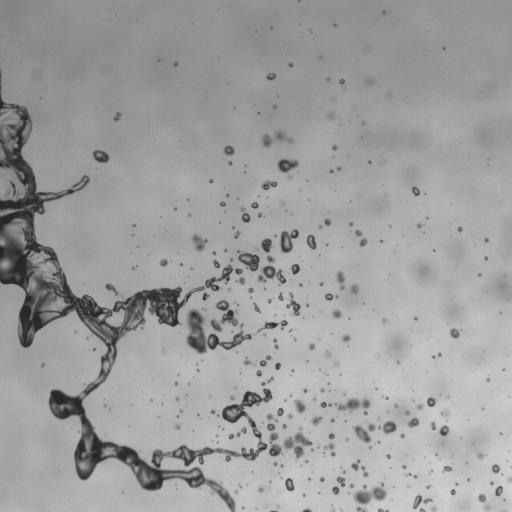droplet: (277, 229, 298, 253), (277, 158, 299, 180), (412, 494, 433, 510), (191, 233, 208, 252), (293, 399, 307, 415), (92, 150, 109, 163), (261, 179, 277, 190), (406, 416, 419, 428), (306, 234, 316, 249), (449, 328, 462, 339), (426, 394, 437, 407), (310, 415, 323, 426), (284, 477, 294, 491), (438, 424, 449, 436), (243, 356, 256, 366), (440, 408, 450, 421), (19, 147, 30, 158), (272, 169, 283, 180), (269, 243, 280, 254), (479, 243, 490, 254), (285, 251, 296, 262), (151, 279, 162, 290), (8, 282, 19, 293), (328, 282, 339, 293), (71, 286, 82, 297), (14, 287, 25, 298), (122, 287, 133, 298), (208, 290, 219, 301), (96, 296, 107, 307), (102, 297, 113, 308), (327, 299, 338, 310), (176, 308, 187, 319), (282, 308, 293, 319), (201, 311, 212, 322), (145, 312, 156, 323), (286, 314, 297, 325), (9, 316, 20, 327), (178, 322, 189, 333), (33, 329, 44, 340), (250, 351, 261, 362), (321, 358, 332, 369), (263, 363, 274, 374), (87, 370, 98, 381), (65, 386, 76, 397), (266, 399, 277, 410), (284, 402, 295, 413), (310, 404, 321, 415), (426, 406, 437, 417), (303, 407, 314, 418), (321, 407, 332, 418), (366, 412, 377, 423), (68, 413, 79, 424), (418, 418, 429, 429), (318, 420, 329, 431), (395, 421, 406, 432), (285, 426, 296, 437), (350, 435, 361, 446), (247, 437, 258, 448), (220, 438, 231, 449), (189, 440, 200, 451), (229, 440, 240, 451), (162, 441, 173, 452), (374, 445, 385, 456), (282, 447, 293, 458), (119, 462, 130, 473), (416, 465, 427, 476), (345, 469, 356, 480), (417, 473, 428, 484), (492, 473, 503, 484), (483, 486, 494, 497), (368, 498, 379, 509), (159, 258, 172, 267), (223, 145, 234, 155), (290, 264, 300, 275), (331, 309, 342, 319), (476, 451, 487, 460), (494, 485, 503, 496), (502, 483, 511, 494), (411, 186, 420, 196), (212, 259, 221, 269), (326, 111, 335, 120), (491, 464, 500, 473), (253, 135, 262, 144), (270, 139, 279, 148), (284, 151, 293, 160), (248, 208, 257, 217), (271, 237, 280, 246), (186, 241, 195, 250), (257, 249, 266, 258), (258, 257, 267, 266), (231, 259, 240, 268), (241, 267, 250, 276), (213, 268, 222, 277), (282, 268, 291, 277), (343, 278, 352, 287), (253, 281, 262, 290), (279, 283, 288, 292), (68, 309, 77, 318), (215, 309, 224, 318), (98, 344, 107, 353), (265, 345, 274, 354), (247, 364, 256, 373), (308, 385, 317, 394), (173, 386, 182, 395), (347, 390, 356, 399), (300, 394, 309, 403), (233, 395, 242, 404), (80, 398, 89, 407), (314, 406, 323, 415), (200, 407, 209, 416), (238, 416, 247, 425), (256, 422, 265, 431), (327, 423, 336, 432), (97, 432, 106, 441), (260, 433, 269, 442), (116, 437, 125, 446), (274, 437, 283, 446), (111, 457, 120, 466), (353, 483, 362, 492), (384, 487, 393, 496), (377, 499, 386, 508), (350, 284, 358, 294), (341, 334, 351, 342), (365, 77, 373, 86), (113, 112, 121, 121), (359, 238, 367, 247), (202, 292, 210, 301), (266, 73, 276, 80), (324, 349, 331, 359), (173, 422, 181, 430), (257, 485, 265, 493), (415, 403, 424, 410), (324, 218, 331, 226), (354, 229, 362, 236), (0, 189, 5, 200), (234, 230, 240, 239), (277, 407, 283, 416), (430, 421, 436, 430), (278, 291, 283, 301), (251, 202, 258, 209), (381, 318, 388, 325), (308, 343, 315, 350), (266, 66, 273, 73), (2, 96, 9, 103), (17, 99, 24, 106), (28, 113, 35, 120), (267, 129, 274, 136), (284, 130, 291, 137), (260, 145, 267, 152), (224, 154, 231, 161), (271, 162, 278, 169), (272, 165, 279, 172), (288, 167, 295, 174), (32, 169, 39, 176), (258, 176, 265, 183), (52, 185, 59, 192), (32, 211, 39, 218), (418, 216, 425, 223), (186, 230, 193, 237), (257, 234, 264, 241), (55, 251, 62, 258), (158, 252, 165, 259), (219, 261, 226, 268), (238, 262, 245, 269), (61, 266, 68, 273), (229, 271, 236, 278), (342, 271, 349, 278), (65, 278, 72, 285), (243, 280, 250, 287), (168, 282, 175, 289), (146, 283, 153, 290), (204, 286, 211, 293), (272, 297, 279, 304), (228, 303, 235, 310), (198, 309, 205, 316), (340, 311, 347, 318), (151, 314, 158, 321), (336, 316, 343, 323), (265, 327, 272, 334), (335, 333, 342, 340), (13, 338, 20, 345), (115, 339, 122, 346), (189, 347, 196, 354), (327, 356, 334, 363), (267, 360, 274, 367), (259, 374, 266, 381), (53, 383, 60, 390), (90, 389, 97, 396), (317, 394, 324, 401), (356, 395, 363, 402), (340, 397, 347, 404), (175, 401, 182, 408), (243, 405, 250, 412), (356, 405, 363, 412), (397, 405, 404, 412), (270, 408, 277, 415), (84, 411, 91, 418), (279, 414, 286, 421), (405, 414, 412, 421), (382, 415, 389, 422), (54, 417, 61, 424), (221, 419, 228, 426), (310, 424, 317, 431), (245, 425, 252, 432), (273, 426, 280, 433), (392, 429, 399, 436), (221, 430, 228, 437), (367, 430, 374, 437), (302, 431, 309, 438), (349, 431, 356, 438), (74, 433, 81, 440), (323, 437, 330, 444), (358, 439, 365, 446), (127, 441, 134, 448), (70, 442, 77, 449), (171, 442, 178, 449), (209, 442, 216, 449), (151, 443, 158, 450), (302, 444, 309, 451), (470, 449, 477, 456), (274, 454, 281, 461), (298, 454, 305, 461), (68, 456, 75, 463), (471, 456, 478, 463), (191, 459, 198, 466), (95, 461, 102, 468), (202, 471, 209, 478), (71, 472, 78, 479), (88, 473, 95, 480), (129, 474, 136, 481), (312, 474, 319, 481), (361, 476, 368, 483), (161, 479, 168, 486), (180, 480, 187, 487), (261, 480, 268, 487), (133, 481, 140, 488), (501, 481, 508, 488), (200, 482, 207, 489), (365, 485, 372, 492), (191, 486, 198, 493), (148, 489, 155, 496), (228, 490, 235, 497), (407, 497, 414, 504), (219, 499, 226, 506), (475, 500, 482, 507), (333, 502, 340, 509), (499, 502, 506, 509), (233, 504, 240, 511), (267, 297, 275, 303), (275, 362, 281, 370), (219, 201, 226, 207), (257, 212, 264, 218), (395, 359, 402, 365), (287, 413, 293, 420), (430, 505, 437, 511), (416, 223, 424, 228), (506, 475, 511, 483), (331, 144, 337, 150), (457, 226, 463, 232), (229, 395, 235, 401), (319, 476, 325, 482), (449, 489, 455, 495), (0, 208, 4, 217), (248, 287, 253, 294), (256, 369, 261, 376), (312, 394, 317, 401), (425, 484, 432, 489), (277, 489, 284, 494), (162, 347, 166, 355), (325, 76, 330, 82), (280, 200, 285, 206), (262, 331, 267, 337), (334, 360, 339, 366), (302, 388, 308, 393), (319, 388, 325, 393), (178, 408, 183, 414), (282, 423, 287, 429), (385, 453, 390, 459), (428, 469, 433, 475), (486, 375, 490, 382), (223, 507, 230, 511), (173, 61, 178, 66), (288, 62, 293, 67), (336, 166, 341, 171), (484, 237, 489, 242), (211, 250, 216, 255), (227, 287, 232, 292), (405, 410, 410, 415), (400, 433, 405, 438), (401, 464, 406, 469), (237, 483, 242, 488), (349, 483, 354, 488), (287, 57, 292, 62), (270, 78, 275, 83), (343, 81, 348, 86), (26, 108, 31, 113), (111, 111, 116, 116), (31, 125, 36, 130), (327, 142, 332, 147), (336, 144, 341, 149), (219, 145, 224, 150), (232, 145, 237, 150), (100, 146, 105, 151), (105, 149, 110, 154), (330, 149, 335, 154), (107, 157, 112, 162), (98, 161, 103, 166), (331, 165, 336, 170), (340, 165, 345, 170), (332, 168, 337, 173), (88, 175, 93, 180), (75, 176, 80, 181), (268, 176, 273, 181), (85, 182, 90, 187), (65, 184, 70, 189), (268, 185, 273, 190), (35, 187, 40, 192), (419, 188, 424, 193), (262, 189, 267, 194), (418, 192, 423, 197), (66, 193, 71, 198), (222, 196, 227, 201), (253, 197, 258, 202), (52, 198, 57, 203), (42, 201, 47, 206), (218, 205, 223, 210), (254, 207, 259, 212), (326, 214, 331, 219), (319, 220, 324, 225), (351, 225, 356, 230), (286, 228, 291, 233), (350, 231, 355, 236), (265, 233, 270, 238), (200, 234, 205, 239), (357, 235, 362, 240), (290, 237, 295, 242), (35, 238, 40, 243), (314, 238, 319, 243), (203, 242, 208, 247), (304, 244, 309, 249), (249, 249, 254, 254), (288, 249, 293, 254), (283, 251, 288, 256), (212, 254, 217, 259), (166, 261, 171, 266), (208, 261, 213, 266), (298, 263, 303, 268), (160, 265, 165, 270), (296, 270, 301, 275), (206, 274, 211, 279), (272, 275, 277, 280), (265, 277, 270, 282), (111, 281, 116, 286), (200, 281, 205, 286), (259, 281, 264, 286), (100, 283, 105, 288), (357, 284, 362, 289), (115, 286, 120, 291), (137, 286, 142, 291), (108, 289, 113, 294), (198, 290, 203, 295), (320, 291, 325, 296), (351, 293, 356, 298), (187, 296, 192, 301), (176, 297, 181, 302), (205, 297, 210, 302), (294, 298, 299, 303), (256, 302, 261, 307), (299, 302, 304, 307), (108, 304, 113, 309), (232, 313, 237, 318), (58, 316, 63, 321), (267, 317, 272, 322), (271, 317, 276, 322), (376, 317, 381, 322), (377, 320, 382, 325), (259, 321, 264, 326), (142, 322, 147, 327), (174, 323, 179, 328), (283, 324, 288, 329), (290, 330, 295, 335), (342, 330, 347, 335), (349, 334, 354, 339), (449, 336, 454, 341), (243, 338, 248, 343), (306, 339, 311, 344), (312, 339, 317, 344), (346, 339, 351, 344), (215, 344, 220, 349), (26, 345, 31, 350), (232, 345, 237, 350), (304, 346, 309, 351), (313, 346, 318, 351), (329, 348, 334, 353), (115, 353, 120, 358), (395, 354, 400, 359), (247, 355, 252, 360), (260, 355, 265, 360), (96, 357, 101, 362), (400, 361, 405, 366), (279, 364, 284, 369), (396, 364, 401, 369), (258, 365, 263, 370), (95, 367, 100, 372), (337, 367, 342, 372), (251, 369, 256, 374), (107, 372, 112, 377), (175, 376, 180, 381), (324, 376, 329, 381), (98, 383, 103, 388), (264, 383, 269, 388), (81, 384, 86, 389), (323, 384, 328, 389), (249, 387, 254, 392), (314, 387, 319, 392), (45, 392, 50, 397), (259, 392, 264, 397), (283, 393, 288, 398), (268, 398, 273, 403), (227, 400, 232, 405), (259, 400, 264, 405), (422, 401, 427, 406), (368, 402, 373, 407), (251, 403, 256, 408), (432, 404, 437, 409), (344, 407, 349, 412), (365, 407, 370, 412), (217, 409, 222, 414), (338, 409, 343, 414), (301, 410, 306, 415), (282, 411, 287, 416), (272, 412, 277, 417), (314, 412, 319, 417), (176, 417, 181, 422), (269, 418, 274, 423), (264, 419, 269, 424), (393, 419, 398, 424), (254, 420, 259, 425), (352, 421, 357, 426), (378, 421, 383, 426), (445, 421, 450, 426), (179, 424, 184, 429), (412, 425, 417, 430), (435, 425, 440, 430), (329, 428, 334, 433), (174, 429, 179, 434), (217, 429, 222, 434), (324, 430, 329, 435), (388, 431, 393, 436), (446, 431, 451, 436), (239, 432, 244, 437), (333, 433, 338, 438), (438, 434, 443, 439), (443, 434, 448, 439), (253, 436, 258, 441), (330, 438, 335, 443), (367, 440, 372, 445), (364, 441, 369, 446), (311, 442, 316, 447), (216, 443, 221, 448), (161, 448, 166, 453), (236, 448, 241, 453), (244, 448, 249, 453), (325, 448, 330, 453), (212, 451, 217, 456), (221, 452, 226, 457), (202, 454, 207, 459), (230, 455, 235, 460), (238, 455, 243, 460), (254, 456, 259, 461), (351, 458, 356, 463), (475, 458, 480, 463), (489, 460, 494, 465), (495, 460, 500, 465), (445, 461, 450, 466), (302, 462, 307, 467), (357, 462, 362, 467), (428, 463, 433, 468), (198, 464, 203, 469), (185, 465, 190, 470), (364, 466, 369, 471), (349, 467, 354, 472), (498, 467, 503, 472), (357, 468, 362, 473), (403, 468, 408, 473), (487, 468, 492, 473), (444, 470, 449, 475), (495, 471, 500, 476), (317, 472, 322, 477), (339, 472, 344, 477), (282, 474, 287, 479), (408, 475, 413, 480), (214, 477, 219, 482), (280, 478, 285, 483), (343, 479, 348, 484), (257, 481, 262, 486), (292, 481, 297, 486), (280, 482, 285, 487), (335, 482, 340, 487), (492, 483, 497, 488), (451, 484, 456, 489), (253, 485, 258, 490), (327, 485, 332, 490), (338, 486, 343, 491), (284, 489, 289, 494), (478, 489, 483, 494), (261, 490, 266, 495), (328, 490, 333, 495), (499, 492, 504, 497), (421, 494, 426, 499), (474, 498, 479, 503), (418, 502, 423, 507), (302, 504, 307, 509), (175, 396, 179, 402), (215, 433, 221, 437), (419, 507, 425, 511), (0, 166, 3, 173), (381, 10, 386, 14), (308, 29, 312, 34), (272, 104, 277, 108), (227, 161, 232, 165), (209, 178, 213, 183), (348, 222, 353, 226), (318, 224, 322, 229), (178, 262, 183, 266), (318, 282, 323, 286), (305, 302, 309, 307), (413, 316, 417, 321), (437, 352, 441, 357), (323, 371, 328, 375), (174, 381, 178, 386), (220, 427, 225, 431), (367, 445, 372, 449), (273, 461, 277, 466), (341, 470, 346, 474), (489, 481, 494, 485), (406, 483, 410, 488), (454, 482, 458, 487), (267, 486, 271, 491), (234, 489, 238, 494), (333, 23, 337, 27), (318, 55, 322, 59), (361, 121, 365, 125), (329, 169, 333, 173), (187, 213, 191, 217), (379, 239, 383, 243), (223, 248, 227, 252), (484, 256, 488, 260), (299, 283, 303, 287), (326, 381, 330, 385), (149, 398, 153, 402), (411, 398, 415, 402), (103, 403, 107, 407), (394, 403, 398, 407), (481, 406, 485, 410), (345, 437, 349, 441), (310, 447, 314, 451), (304, 459, 308, 463), (307, 477, 311, 481), (302, 493, 306, 497), (131, 224, 136, 227), (317, 337, 320, 342), (41, 362, 44, 367), (174, 484, 177, 489), (508, 459, 511, 464), (277, 508, 282, 511), (414, 508, 419, 511), (435, 508, 440, 511), (488, 508, 493, 511), (442, 46, 445, 50), (368, 160, 371, 164), (226, 193, 229, 197), (173, 207, 177, 210), (92, 347, 95, 351), (432, 355, 435, 359), (502, 367, 505, 371), (196, 368, 199, 372), (187, 382, 191, 385), (374, 387, 378, 390), (289, 393, 292, 397), (208, 395, 211, 399), (446, 395, 450, 398), (283, 398, 286, 402), (176, 414, 179, 418), (308, 430, 311, 434), (499, 432, 503, 435), (377, 440, 380, 444), (317, 444, 320, 448), (317, 491, 321, 494), (0, 115, 2, 120), (0, 281, 2, 286), (270, 26, 273, 29), (306, 179, 309, 182), (257, 194, 260, 197), (284, 209, 287, 212), (232, 226, 235, 229), (131, 233, 134, 236), (274, 234, 277, 237), (325, 243, 328, 246), (432, 249, 435, 252), (190, 267, 193, 270), (478, 273, 481, 276), (263, 287, 266, 290), (249, 296, 252, 299), (362, 302, 365, 305), (499, 311, 502, 314), (74, 330, 77, 333), (230, 330, 233, 333), (200, 358, 203, 361), (306, 360, 309, 363), (291, 369, 294, 372), (318, 368, 321, 371), (177, 373, 180, 376), (339, 373, 342, 376), (328, 389, 331, 392), (386, 410, 389, 413), (435, 453, 438, 456), (280, 464, 283, 467), (299, 464, 302, 467), (467, 478, 470, 481), (121, 491, 124, 494), (347, 491, 350, 494), (502, 498, 505, 501), (241, 506, 244, 509), (254, 507, 257, 510), (295, 1, 298, 4), (380, 13, 383, 16), (334, 20, 337, 23), (329, 23, 332, 26), (267, 24, 270, 27), (332, 26, 335, 29), (311, 28, 314, 31), (444, 44, 447, 47), (439, 47, 442, 50), (444, 48, 447, 51), (170, 62, 173, 65), (285, 63, 288, 66), (175, 65, 178, 68), (272, 70, 275, 73), (0, 71, 3, 74), (263, 75, 266, 78), (0, 76, 3, 79), (342, 76, 345, 79), (267, 79, 270, 82), (339, 83, 342, 86), (0, 84, 3, 87), (275, 102, 278, 105), (116, 108, 119, 111), (256, 108, 259, 111), (259, 111, 262, 114), (256, 114, 259, 117), (116, 119, 119, 122), (370, 159, 373, 162), (243, 160, 246, 163), (364, 160, 367, 163), (224, 161, 227, 164), (231, 162, 234, 165), (240, 163, 243, 166), (246, 163, 249, 166), (336, 163, 339, 166), (367, 163, 370, 166), (228, 164, 231, 167), (243, 167, 246, 170), (326, 169, 329, 172), (339, 169, 342, 172), (85, 172, 88, 175), (241, 172, 244, 175), (329, 172, 332, 175), (212, 178, 215, 181), (205, 179, 208, 182), (73, 180, 76, 183), (210, 182, 213, 185), (412, 183, 415, 186), (275, 184, 278, 187), (409, 185, 412, 188), (409, 189, 412, 192), (225, 190, 228, 193), (228, 193, 231, 196), (411, 193, 414, 196), (416, 194, 419, 197), (188, 196, 191, 199), (183, 198, 186, 201), (235, 199, 238, 202), (187, 200, 190, 203), (216, 202, 219, 205), (172, 204, 175, 207), (283, 205, 286, 208), (170, 207, 173, 210), (176, 207, 179, 210), (286, 210, 289, 213), (184, 212, 187, 215), (190, 212, 193, 215), (261, 212, 264, 215), (427, 214, 430, 217), (189, 215, 192, 218), (260, 215, 263, 218), (239, 218, 242, 221), (215, 219, 218, 222), (347, 219, 350, 222), (351, 219, 354, 222), (132, 220, 135, 223), (245, 221, 248, 224), (389, 221, 392, 224), (414, 221, 417, 224), (135, 223, 138, 226), (217, 223, 220, 226), (457, 223, 460, 226), (228, 225, 231, 228), (420, 225, 423, 228), (132, 226, 135, 229), (233, 228, 236, 231), (461, 228, 464, 231), (455, 229, 458, 232), (308, 231, 311, 234), (311, 232, 314, 235), (237, 234, 240, 237), (483, 234, 486, 237), (231, 235, 234, 238), (380, 236, 383, 239), (481, 237, 484, 240), (376, 238, 379, 241), (327, 241, 330, 244), (484, 241, 487, 244), (304, 242, 307, 245), (380, 242, 383, 245), (364, 243, 367, 246), (327, 244, 330, 247), (324, 245, 327, 248), (432, 245, 435, 248), (226, 246, 229, 249), (233, 248, 236, 251), (429, 248, 432, 251), (435, 248, 438, 251), (215, 251, 218, 254), (432, 251, 435, 254), (484, 252, 487, 255), (319, 255, 322, 258), (481, 255, 484, 258), (487, 257, 490, 260), (166, 258, 169, 261), (216, 259, 219, 262), (483, 259, 486, 262), (176, 261, 179, 264), (182, 261, 185, 264), (291, 261, 294, 264), (132, 263, 135, 266), (190, 264, 193, 267), (178, 265, 181, 268), (128, 266, 131, 269), (134, 266, 137, 269), (189, 269, 192, 272), (479, 270, 482, 273), (474, 272, 477, 275), (479, 275, 482, 278), (320, 278, 323, 281), (301, 281, 304, 284), (354, 281, 357, 284), (282, 282, 285, 285), (322, 282, 325, 285), (296, 284, 299, 287), (319, 285, 322, 288), (325, 290, 328, 293), (291, 291, 294, 294), (248, 292, 251, 295), (322, 296, 325, 299), (332, 296, 335, 299), (250, 299, 253, 302), (277, 299, 280, 302), (326, 299, 329, 302), (236, 300, 239, 303), (264, 300, 267, 303), (287, 300, 290, 303), (308, 302, 311, 305), (251, 305, 254, 308), (258, 307, 261, 310), (297, 308, 300, 311), (500, 308, 503, 311), (414, 313, 417, 316), (383, 315, 386, 318), (350, 316, 353, 319), (410, 316, 413, 319), (285, 318, 288, 321), (416, 318, 419, 321), (347, 319, 350, 322), (237, 321, 240, 324), (70, 329, 73, 332), (458, 330, 461, 333), (295, 336, 298, 339), (290, 339, 293, 342), (272, 341, 275, 344), (275, 341, 278, 344), (90, 345, 93, 348), (164, 347, 167, 350), (275, 348, 278, 351), (440, 351, 443, 354), (265, 352, 268, 355), (434, 353, 437, 356), (428, 355, 431, 358), (305, 356, 308, 359), (242, 357, 245, 360), (308, 359, 311, 362), (393, 360, 396, 363), (256, 361, 259, 364), (38, 362, 41, 365), (305, 362, 308, 365), (42, 365, 45, 368), (195, 365, 198, 368), (290, 365, 293, 368), (319, 365, 322, 368), (315, 366, 318, 369), (499, 366, 502, 369), (504, 367, 507, 370), (237, 368, 240, 371), (320, 369, 323, 372), (194, 370, 197, 373), (325, 370, 328, 373), (500, 370, 503, 373), (290, 371, 293, 374), (173, 372, 176, 375), (179, 372, 182, 375), (238, 374, 241, 377), (339, 375, 342, 378), (488, 375, 491, 378), (483, 376, 486, 379), (185, 379, 188, 382), (270, 379, 273, 382), (171, 380, 174, 383), (488, 380, 491, 383), (177, 382, 180, 385), (184, 383, 187, 386), (375, 384, 378, 387), (303, 385, 306, 388), (306, 387, 309, 390), (371, 387, 374, 390), (330, 389, 333, 392), (375, 389, 378, 392), (306, 390, 309, 393), (270, 392, 273, 395), (383, 393, 386, 396), (205, 394, 208, 397), (387, 394, 390, 397), (147, 395, 150, 398), (185, 395, 188, 398), (210, 395, 213, 398), (178, 397, 181, 400), (172, 398, 175, 401), (146, 399, 149, 402), (152, 399, 155, 402), (319, 399, 322, 402), (384, 399, 387, 402), (102, 400, 105, 403), (162, 401, 165, 404), (396, 401, 399, 404), (157, 402, 160, 405), (331, 403, 334, 406), (100, 404, 103, 407), (106, 404, 109, 407), (278, 404, 281, 407), (275, 406, 278, 409), (104, 407, 107, 410), (110, 407, 113, 410), (208, 407, 211, 410), (394, 407, 397, 410), (404, 407, 407, 410), (157, 412, 160, 415), (193, 412, 196, 415), (213, 412, 216, 415), (178, 413, 181, 416), (199, 413, 202, 416), (364, 414, 367, 417), (196, 415, 199, 418), (328, 416, 331, 419), (333, 416, 336, 419), (332, 421, 335, 424), (342, 421, 345, 424), (428, 426, 431, 429), (500, 429, 503, 432), (227, 431, 230, 434), (212, 433, 215, 436), (459, 433, 462, 436), (233, 434, 236, 437), (499, 434, 502, 437), (225, 435, 228, 438), (215, 437, 218, 440), (399, 437, 402, 440), (402, 437, 405, 440), (458, 438, 461, 441), (375, 442, 378, 445), (321, 448, 324, 451), (367, 448, 370, 451), (432, 450, 435, 453), (483, 451, 486, 454), (389, 452, 392, 455), (383, 453, 386, 456), (437, 453, 440, 456), (420, 455, 423, 458), (434, 455, 437, 458), (483, 455, 486, 458), (384, 457, 387, 460), (227, 460, 230, 463), (276, 462, 279, 465), (403, 462, 406, 465), (341, 466, 344, 469), (391, 466, 394, 469), (427, 467, 430, 470), (440, 467, 443, 470), (247, 470, 250, 473), (252, 471, 255, 474), (410, 472, 413, 475), (430, 472, 433, 475), (307, 474, 310, 477), (467, 475, 470, 478), (415, 477, 418, 480), (463, 477, 466, 480), (488, 478, 491, 481), (305, 479, 308, 482), (379, 479, 382, 482), (455, 479, 458, 482), (322, 480, 325, 483), (468, 480, 471, 483), (239, 482, 242, 485), (266, 482, 269, 485), (383, 482, 386, 485), (425, 482, 428, 485), (393, 483, 396, 486), (430, 483, 433, 486), (236, 486, 239, 489), (502, 486, 505, 489), (428, 487, 431, 490), (318, 488, 321, 491), (118, 489, 121, 492), (123, 490, 126, 493), (303, 490, 306, 493), (447, 491, 450, 494), (305, 493, 308, 496), (316, 493, 319, 496), (299, 494, 302, 497), (450, 494, 453, 497), (429, 495, 432, 498), (243, 504, 246, 507), (332, 504, 335, 507), (328, 505, 331, 508), (271, 507, 274, 510), (501, 507, 504, 510), (308, 280, 310, 284), (340, 465, 342, 469), (297, 0, 300, 2), (157, 59, 160, 61), (243, 171, 246, 173), (266, 196, 268, 199), (187, 198, 189, 201), (308, 198, 310, 201), (426, 216, 428, 219), (218, 221, 221, 223), (389, 224, 391, 227), (318, 254, 320, 257), (302, 317, 305, 319), (235, 351, 238, 353), (482, 350, 485, 352), (195, 363, 198, 365), (234, 386, 236, 389), (185, 393, 187, 396), (439, 393, 441, 396), (108, 408, 110, 411), (157, 416, 160, 418), (344, 420, 347, 422), (218, 424, 220, 427), (310, 471, 313, 473), (269, 480, 271, 483), (299, 0, 302, 2), (509, 393, 511, 396), (509, 396, 511, 399), (241, 509, 244, 511), (252, 509, 255, 511), (255, 509, 258, 511), (337, 509, 340, 511), (342, 509, 345, 511), (354, 509, 357, 511), (374, 509, 377, 511), (233, 107, 235, 109), (257, 112, 259, 114), (244, 164, 246, 166), (424, 193, 426, 195), (236, 197, 238, 199), (349, 200, 351, 202), (290, 278, 292, 280), (274, 314, 276, 316), (348, 317, 350, 319), (330, 332, 332, 334), (347, 345, 349, 347), (239, 372, 241, 374), (161, 403, 163, 405), (261, 421, 263, 423), (506, 460, 508, 462), (466, 462, 468, 464), (389, 467, 391, 469), (251, 471, 253, 473), (501, 473, 503, 475), (294, 0, 297, 1), (224, 210, 225, 212), (423, 232, 425, 233), (177, 252, 179, 253), (333, 389, 335, 390), (508, 396, 510, 397), (192, 429, 193, 431), (374, 443, 375, 445), (424, 456, 425, 458), (510, 466, 511, 468), (392, 486, 394, 487), (136, 246, 137, 247), (320, 311, 321, 312), (283, 314, 284, 315), (429, 462, 430, 463)
ligament: (185, 299, 287, 354), (320, 390, 370, 415), (352, 416, 397, 443), (260, 129, 294, 148), (285, 291, 300, 317), (323, 432, 335, 457), (331, 476, 345, 495), (477, 493, 491, 511), (228, 427, 247, 439), (335, 270, 345, 290), (239, 206, 250, 223), (259, 355, 272, 368), (260, 376, 274, 386), (324, 292, 339, 300), (252, 302, 261, 314), (404, 472, 417, 478), (273, 338, 278, 353), (339, 78, 345, 90), (269, 504, 279, 511), (195, 413, 201, 419), (377, 508, 389, 511), (301, 508, 312, 511), (381, 395, 388, 399), (211, 440, 218, 444), (278, 472, 282, 479), (132, 265, 138, 269), (339, 508, 343, 511), (323, 452, 325, 457), (500, 510, 508, 511), (460, 437, 462, 438)
